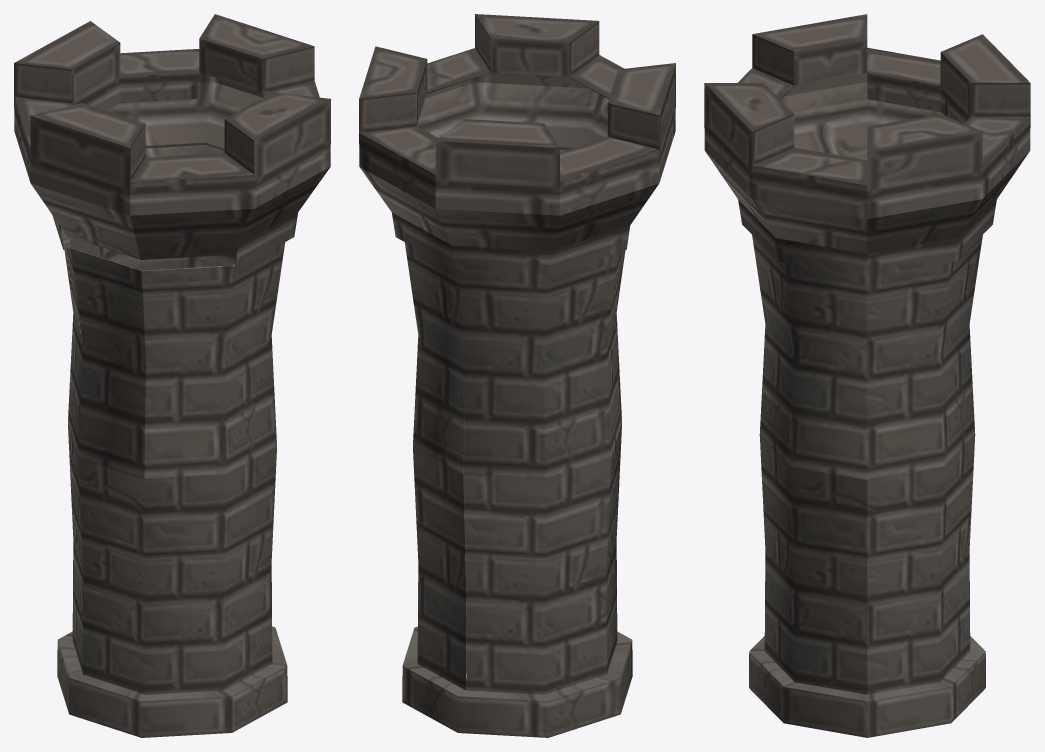
Rendered from Tower1piecesV2_breakable.fbx.
The picture shows the model from 3 angles, left to right: view 1: azimuth 30°, elevation 25°; view 2: azimuth 150°, elevation 25°; view 3: azimuth 270°, elevation 25°; orthographic projection.
Parts seen in each view (by area): view 1: shard41, shard38, shard36, shard39, shard42, shard40, shard44, shard29, shard43; view 2: shard42, shard29, shard36, shard43, shard39, shard40, shard44, shard41; view 3: shard41, shard43, shard36, shard29, shard38, shard39, shard40, shard44.
Boxes of the visible parts, box(x1,y1,x2,y2) form: shard41: box(69, 447, 287, 737); shard38: box(119, 142, 297, 478); shard36: box(14, 21, 313, 259); shard39: box(130, 80, 330, 259); shard42: box(68, 236, 145, 673); shard40: box(199, 14, 314, 92); shard44: box(30, 103, 145, 181); shard29: box(52, 142, 235, 343); shard43: box(57, 626, 274, 713); shard42: box(463, 250, 625, 694); shard29: box(392, 212, 629, 478); shard36: box(359, 97, 675, 250); shard43: box(402, 447, 620, 737); shard39: box(417, 14, 658, 157); shard40: box(359, 46, 427, 132); shard44: box(607, 63, 675, 149); shard41: box(415, 424, 632, 713); shard41: box(749, 435, 867, 737); shard43: box(867, 435, 985, 737); shard36: box(781, 34, 1030, 253); shard29: box(867, 142, 996, 480); shard38: box(738, 199, 867, 480); shard39: box(704, 68, 867, 253); shard40: box(867, 114, 982, 185); shard44: box(752, 14, 867, 85).
Bounding box in the file's own units: 2.43 × 4.97 × 2.43.
